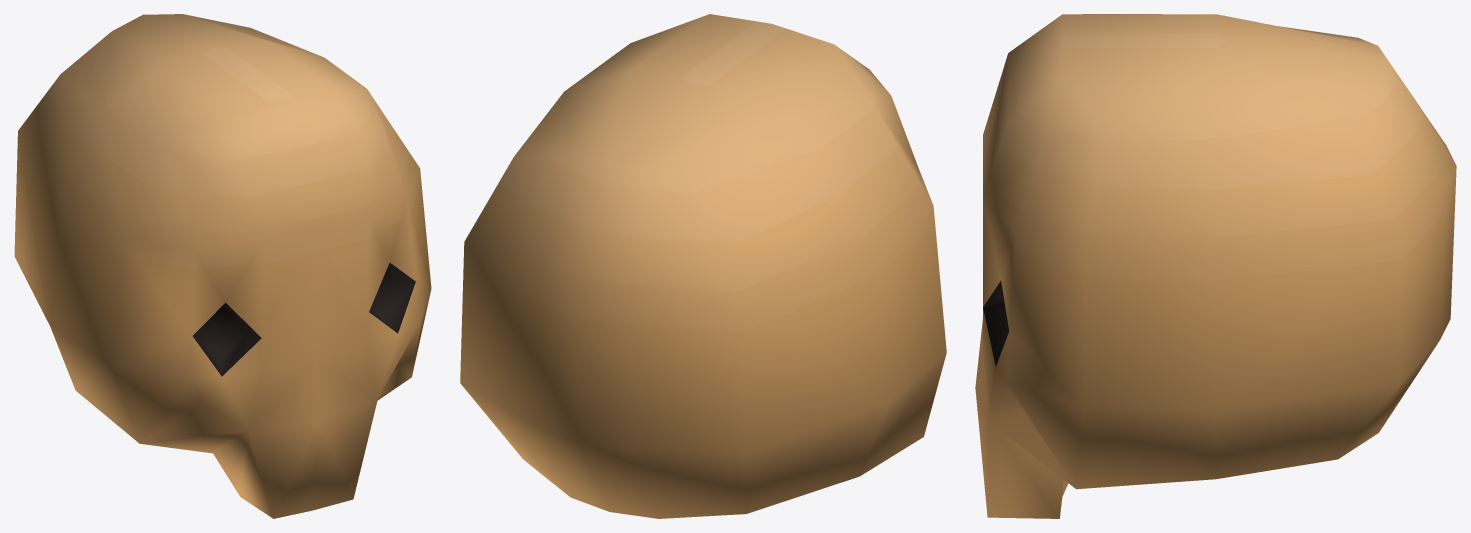
The model's file is test_skull.glb.
3 renders of one model, left to right at view 1: azimuth 30°, elevation 25°; view 2: azimuth 150°, elevation 25°; view 3: azimuth 270°, elevation 25°, orthographic. The views are drawn at different scales.
Parts seen in each view (by area): view 1: Lowpolyskull; view 2: Lowpolyskull; view 3: Lowpolyskull.
Boxes of the visible parts, x1,y1,x2,y2 form: Lowpolyskull: (14,14,431,518); Lowpolyskull: (460,14,946,518); Lowpolyskull: (975,14,1456,518).
Bounding box in the file's own units: 0.1969 × 0.2215 × 0.211.
1 material, 1 textured.
